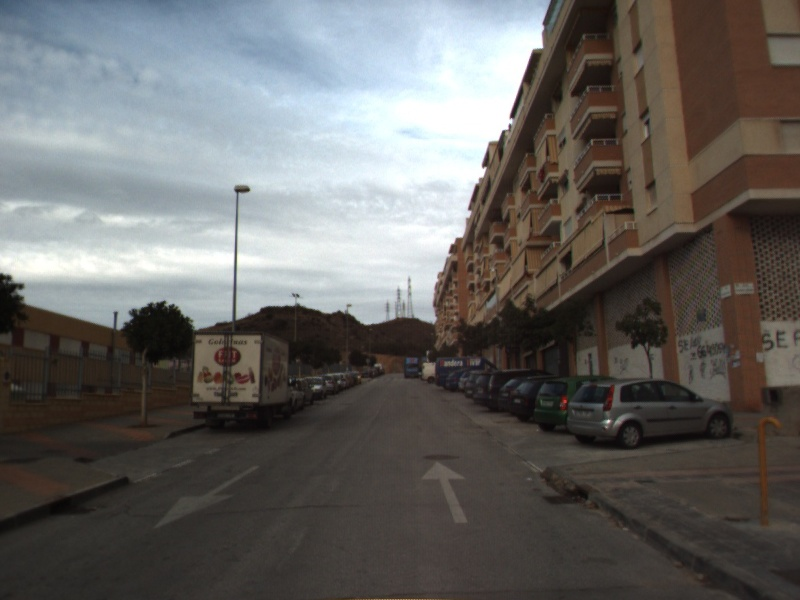STRAIGHT: (419, 459, 470, 525)
